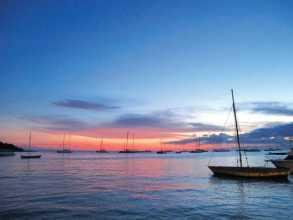otherboat: (201, 163, 292, 185)
